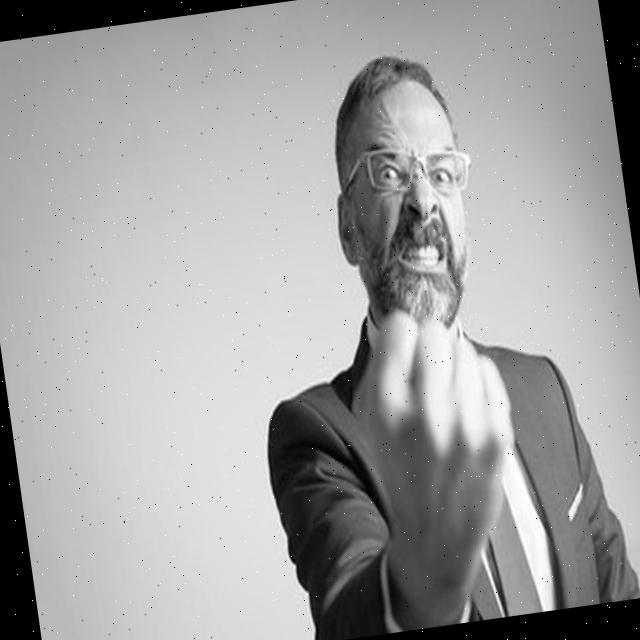Angry: (334, 78, 482, 343)
